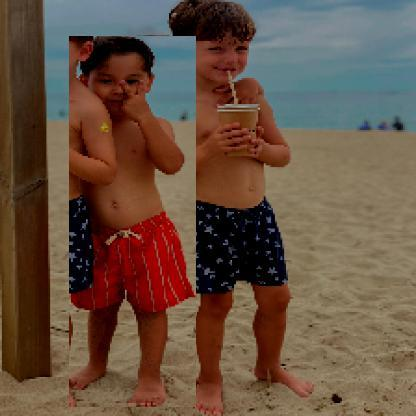child: (150, 1, 317, 415), (70, 37, 198, 409)
